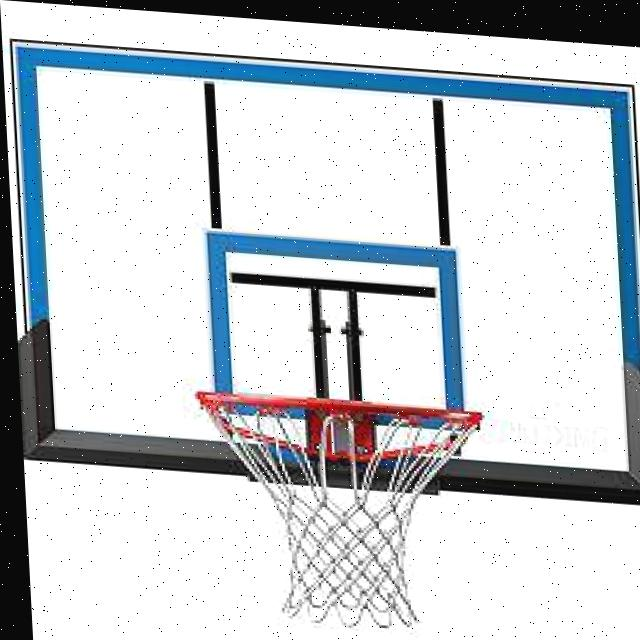hoop: (195, 388, 497, 639)
